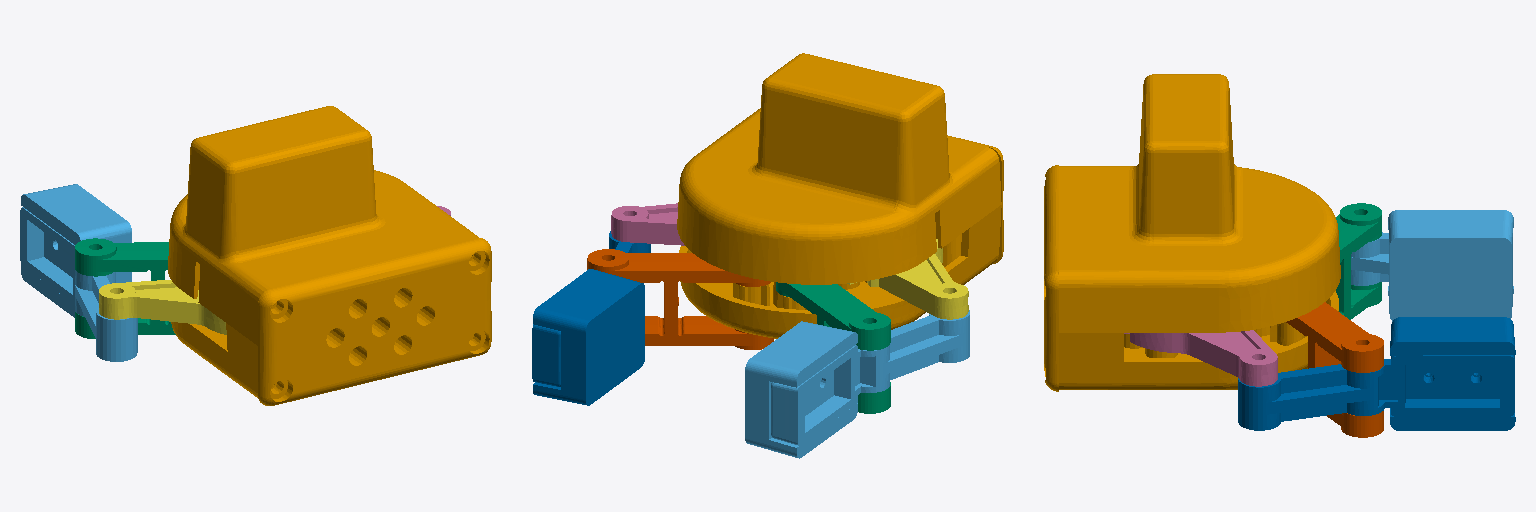
URDF robot description (mycobot):
<?xml version="1.0" ?>
<!-- =================================================================================== -->
<!-- |    This document was autogenerated by xacro from gripper.urdf.xacro             | -->
<!-- |    EDITING THIS FILE BY HAND IS NOT RECOMMENDED                                 | -->
<!-- =================================================================================== -->
<robot name="mycobot">
  <mujoco> <compiler discardvisual="false" meshdir="mesh"/> </mujoco>
  <link name="gripper_base">
    <visual>
      <geometry>
        <!--- 0.0 0 -0.04 -->
        <mesh filename="package://mycobot_description/urdf/mycobot/mesh/gripper_base.obj"/>
      </geometry>
      <origin rpy=" 0 0 0" xyz="0 0.008 -0.012 "/>
    </visual>
    <collision>
      <geometry>
        <!--- 0.0 0 -0.04 -->
        <mesh filename="package://mycobot_description/urdf/mycobot/mesh/gripper_base.obj"/>
      </geometry>
      <origin rpy=" 0 0 0" xyz="0 0.008 -0.012 "/>
    </collision>
  </link>
  <link name="gripper_left1">
    <visual>
      <geometry>
        <!--- 0.0 0 -0.04 -->
        <mesh filename="package://mycobot_description/urdf/mycobot/mesh/gripper_left1.obj"/>
      </geometry>
      <origin rpy=" 0 0 0" xyz="0.039 -0.0133 -0.012 "/>
      <!-- <origin xyz = "0.0 0 -0.012 " rpy = " 0 0 0"/> -->
    </visual>
    <collision>
      <geometry>
        <mesh filename="package://mycobot_description/urdf/mycobot/mesh/gripper_left1.obj"/>
      </geometry>
      <origin rpy=" 0 0 0" xyz="0.039 -0.0133 -0.012 "/>
    </collision>
  </link>
  <link name="gripper_left2">
    <visual>
      <geometry>
        <mesh filename="package://mycobot_description/urdf/mycobot/mesh/gripper_left2.obj"/>
      </geometry>
      <origin rpy=" 0 0 0" xyz="0.005 -0.0195 -0.012 "/>
    </visual>
    <collision>
      <geometry>
        <mesh filename="package://mycobot_description/urdf/mycobot/mesh/gripper_left2.obj"/>
      </geometry>
      <origin rpy=" 0 0 0" xyz="0.005 -0.0195 -0.012 "/>
    </collision>
  </link>
  <link name="gripper_left3">
    <visual>
      <geometry>
        <mesh filename="package://mycobot_description/urdf/mycobot/mesh/gripper_left3.obj"/>
      </geometry>
      <origin rpy=" 0 0 0" xyz="0.012 0.0025 -0.012 "/>
      <!-- <origin xyz = "0.0 0 0 " rpy = " 0 0 0"/> -->
    </visual>
    <collision>
      <geometry>
        <mesh filename="package://mycobot_description/urdf/mycobot/mesh/gripper_left3.obj"/>
      </geometry>
      <origin rpy=" 0 0 0" xyz="0.012 0.0025 -0.012 "/>
    </collision>
  </link>
  <link name="gripper_right1">
    <visual>
      <geometry>
        <mesh filename="package://mycobot_description/urdf/mycobot/mesh/gripper_right1.obj"/>
      </geometry>
      <origin rpy=" 0 0 0" xyz="-0.039 -0.0133 -0.012 "/>
    </visual>
    <collision>
      <geometry>
        <mesh filename="package://mycobot_description/urdf/mycobot/mesh/gripper_right1.obj"/>
      </geometry>
      <origin rpy=" 0 0 0" xyz="-0.039 -0.0133 -0.012 "/>
    </collision>
  </link>
  <link name="gripper_right2">
    <visual>
      <geometry>
        <mesh filename="package://mycobot_description/urdf/mycobot/mesh/gripper_right2.obj"/>
      </geometry>
      <origin rpy=" 0 0 0" xyz="-0.005 -0.0195 -0.012 "/>
    </visual>
    <collision>
      <geometry>
        <mesh filename="package://mycobot_description/urdf/mycobot/mesh/gripper_right2.obj"/>
      </geometry>
      <origin rpy=" 0 0 0" xyz="-0.005 -0.0195 -0.012 "/>
    </collision>
  </link>
  <link name="gripper_right3">
    <visual>
      <geometry>
        <mesh filename="package://mycobot_description/urdf/mycobot/mesh/gripper_right3.obj"/>
      </geometry>
      <origin rpy=" 0 0 0" xyz="-0.012 0.0025 -0.012 "/>
    </visual>
    <collision>
      <geometry>
        <mesh filename="package://mycobot_description/urdf/mycobot/mesh/gripper_right3.obj"/>
      </geometry>
      <origin rpy=" 0 0 0" xyz="-0.012 0.0025 -0.012"/>
    </collision>
  </link>
  <joint name="gripper_base_to_gripper_left3" type="revolute">
    <axis xyz="0 0 1"/>
    <limit effort="1000.0" lower="-0.7" upper="0.15" velocity="0"/>
    <parent link="gripper_base"/>
    <child link="gripper_left3"/>
    <origin rpy="0 0 0" xyz="-0.012 0.005 0"/>
  </joint>
  <joint name="gripper_base_to_gripper_left2" type="revolute">
    <axis xyz="0 0 1"/>
    <limit effort="1000.0" lower="-0.8" upper="0.5" velocity="0"/>
    <parent link="gripper_base"/>
    <child link="gripper_left2"/>
    <origin rpy="0 0 0" xyz="-0.005 0.027 0"/>
    <!-- <mimic joint="gripper_controller" multiplier="1.0" offset="0"/> -->
  </joint>
  <joint name="gripper_left3_to_gripper_left1" type="revolute">
    <axis xyz="0 0 1"/>
    <limit effort="1000.0" lower="-0.5" upper="0.5" velocity="0"/>
    <parent link="gripper_left3"/>
    <child link="gripper_left1"/>
    <origin rpy="0 0 0" xyz="-0.027 0.016 0"/>
    <!-- <mimic joint="gripper_controller" multiplier="-1.0" offset="0"/> -->
  </joint>
  <joint name="gripper_base_to_gripper_right3" type="revolute">
    <axis xyz="0 0 1"/>
    <limit effort="1000.0" lower="-0.15" upper="0.7" velocity="0"/>
    <parent link="gripper_base"/>
    <child link="gripper_right3"/>
    <origin rpy="0 0 0" xyz="0.012 0.005 0"/>
    <!-- <mimic joint="gripper_controller" multiplier="-1.0" offset="0"/> -->
  </joint>
  <joint name="gripper_base_to_gripper_right2" type="revolute">
    <axis xyz="0 0 1"/>
    <limit effort="1000.0" lower="-0.5" upper="0.8" velocity="0"/>
    <parent link="gripper_base"/>
    <child link="gripper_right2"/>
    <origin rpy="0 0 0" xyz="0.005 0.027 0"/>
    <!-- <mimic joint="gripper_controller" multiplier="-1.0" offset="0"/> -->
  </joint>
  <joint name="gripper_right3_to_gripper_right1" type="revolute">
    <axis xyz="0 0 1"/>
    <limit effort="1000.0" lower="-0.5" upper="0.5" velocity="0"/>
    <parent link="gripper_right3"/>
    <child link="gripper_right1"/>
    <origin rpy="0 0 0" xyz="0.027 0.016 0"/>
    <!-- <mimic joint="gripper_controller" multiplier="1.0" offset="0"/> -->
  </joint>
</robot>

--- Facts derived from the render (not from the file) ---
The picture shows the robot from 3 angles, left to right: view 1: azimuth 30°, elevation 25°; view 2: azimuth 150°, elevation 25°; view 3: azimuth 270°, elevation 25°; orthographic projection.
Robot: mycobot — 7 links, 6 joints (6 revolute); root link gripper_base; default pose: all joints at 0.
Visible links, largest first — view 1: gripper_base, gripper_left1, gripper_left3, gripper_left2; view 2: gripper_base, gripper_left1, gripper_right1, gripper_right2, gripper_left2, gripper_left3, gripper_right3; view 3: gripper_base, gripper_right1, gripper_left1, gripper_right2, gripper_right3, gripper_left2.
Boxes of the visible links, box(x1,y1,x2,y2) form: gripper_base: box(168, 106, 491, 405); gripper_left1: box(20, 184, 137, 361); gripper_left3: box(99, 280, 226, 334); gripper_left2: box(75, 238, 175, 338); gripper_base: box(677, 53, 1003, 338); gripper_left1: box(745, 310, 969, 458); gripper_right1: box(532, 231, 650, 405); gripper_right2: box(587, 249, 773, 349); gripper_left2: box(776, 282, 890, 413); gripper_left3: box(847, 239, 968, 319); gripper_right3: box(611, 203, 684, 245); gripper_base: box(1044, 74, 1340, 391); gripper_right1: box(1238, 317, 1515, 430); gripper_left1: box(1351, 210, 1513, 321); gripper_right2: box(1286, 302, 1383, 437); gripper_right3: box(1124, 330, 1277, 386); gripper_left2: box(1336, 203, 1381, 319).
Bounding box of the posed robot: 0.0881 × 0.0989 × 0.0562 m (x, y, z).
Meshes: 7 distinct files referenced, 7 mesh visuals loaded (7 OBJ).